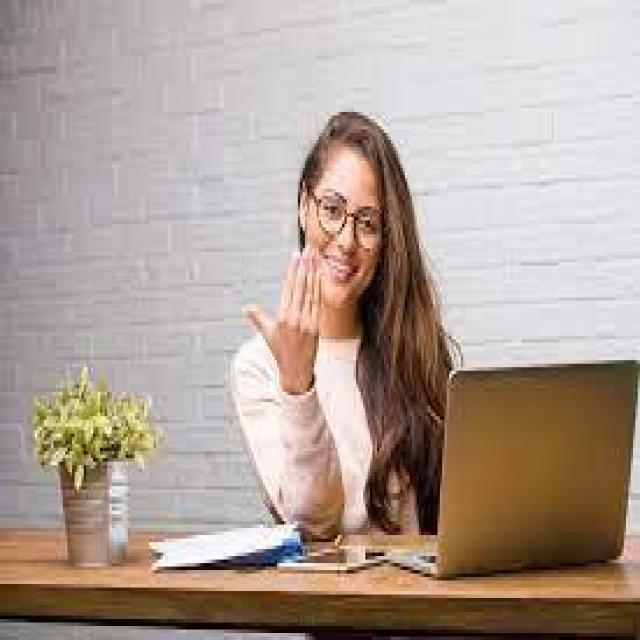person: (224, 101, 452, 570)
